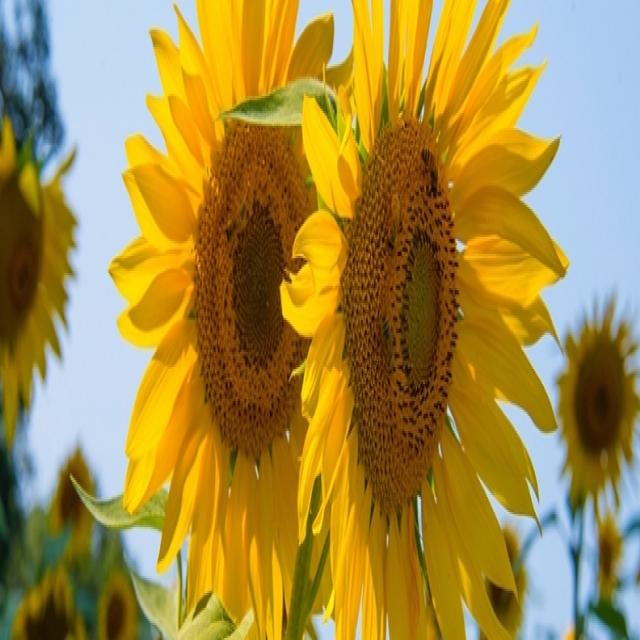sunflower: (281, 0, 555, 640), (107, 0, 331, 640), (0, 97, 95, 436), (545, 277, 640, 503), (5, 544, 88, 640), (49, 453, 99, 541), (92, 559, 142, 640), (591, 508, 627, 610)
